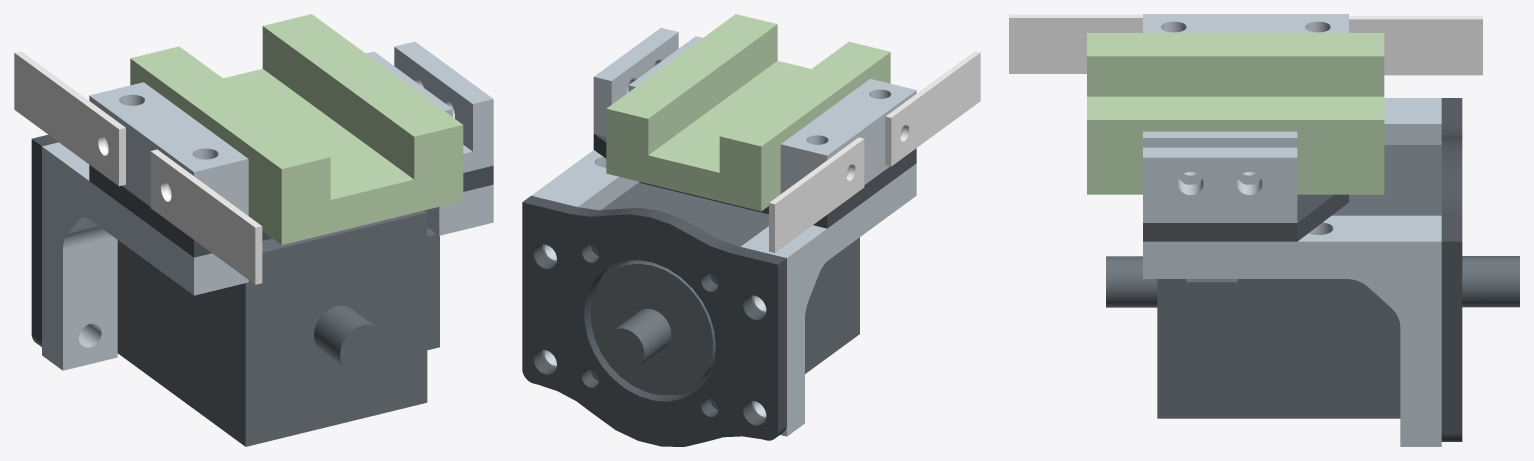
Rendered from zcarriage.obj.
3 renders of one model, left to right at view 1: azimuth 30°, elevation 25°; view 2: azimuth 150°, elevation 25°; view 3: azimuth 270°, elevation 25°, orthographic. The views are drawn at different scales.
Visible parts, largest first — view 1: mesh130, mesh128, mesh67, mesh111, mesh82, mesh114, mesh108, mesh110, mesh109, mesh77, mesh46, mesh115 (+18 smaller); view 2: mesh2, mesh124, mesh67, mesh82, mesh112, mesh114, mesh108, mesh110, mesh128, mesh109, mesh129, mesh46 (+21 smaller); view 3: mesh133, mesh81, mesh107, mesh113, mesh66, mesh40, mesh108, mesh114, mesh138, mesh129, mesh85, mesh6 (+15 smaller).
Part boxes in pixels (left/top/right/bottom): mesh130: left=245, top=213, right=427, bottom=446; mesh128: left=117, top=240, right=245, bottom=446; mesh67: left=14, top=53, right=255, bottom=284; mesh111: left=281, top=125, right=463, bottom=244; mesh82: left=42, top=146, right=439, bottom=370; mesh114: left=130, top=46, right=330, bottom=168; mesh108: left=263, top=14, right=462, bottom=136; mesh110: left=223, top=68, right=413, bottom=199; mesh109: left=262, top=26, right=414, bottom=179; mesh77: left=63, top=237, right=117, bottom=370; mesh46: left=89, top=82, right=247, bottom=171; mesh115: left=130, top=58, right=281, bottom=244; mesh2: left=522, top=202, right=777, bottom=446; mesh124: left=590, top=263, right=712, bottom=394; mesh67: left=775, top=53, right=980, bottom=252; mesh82: left=578, top=163, right=916, bottom=436; mesh112: left=606, top=108, right=761, bottom=211; mesh114: left=720, top=41, right=890, bottom=146; mesh108: left=607, top=14, right=777, bottom=118; mesh110: left=648, top=60, right=810, bottom=172; mesh128: left=805, top=237, right=859, bottom=373; mesh109: left=648, top=24, right=777, bottom=154; mesh129: left=601, top=182, right=768, bottom=246; mesh46: left=781, top=79, right=916, bottom=155; mesh133: left=1157, top=279, right=1400, bottom=418; mesh81: left=1143, top=124, right=1441, bottom=446; mesh107: left=1087, top=120, right=1384, bottom=194; mesh113: left=1087, top=56, right=1384, bottom=96; mesh66: left=1009, top=18, right=1482, bottom=75; mesh40: left=1143, top=157, right=1297, bottom=222; mesh108: left=1087, top=96, right=1384, bottom=119; mesh114: left=1087, top=33, right=1384, bottom=56; mesh138: left=1186, top=282, right=1237, bottom=394; mesh129: left=1332, top=145, right=1441, bottom=215; mesh85: left=1298, top=98, right=1441, bottom=241; mesh6: left=1441, top=241, right=1462, bottom=432.
Size of the model in its own units: 0.0337 by 0.0359 by 0.0496.
